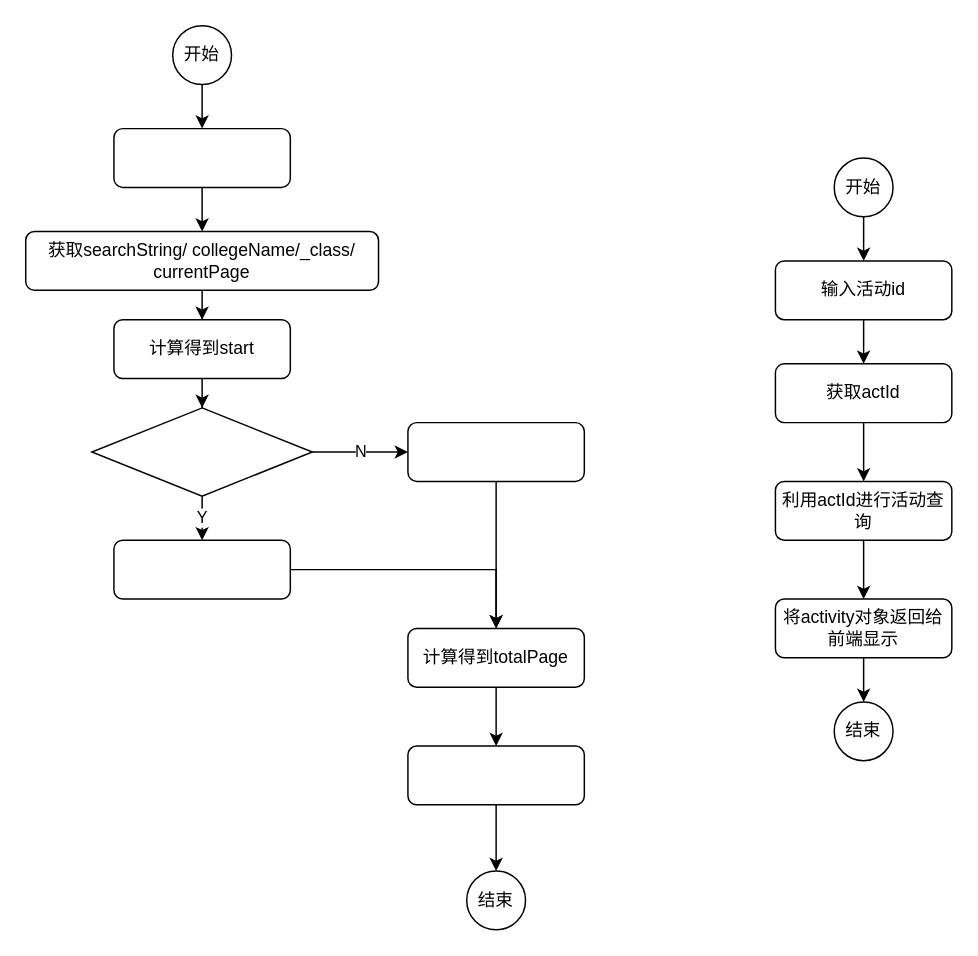
This 978x956 diagram has some shape labels left out. The shapes that lost their labels are listed below. From the top down, each one's centre as x and y in pixels, then its label:
At [201,157]: "输入查询字符串/学院名/班级名/点击页码".
At [201,451]: "searchString/ collegeName/_class是否为空".
At [495,451]: "无SearchString/ collegeName/ _class/ 查询".
At [201,569]: "有SearchString /collegeName/ _class/ 查询".
At [495,775]: "包装为activityPageBean,返回前端".
